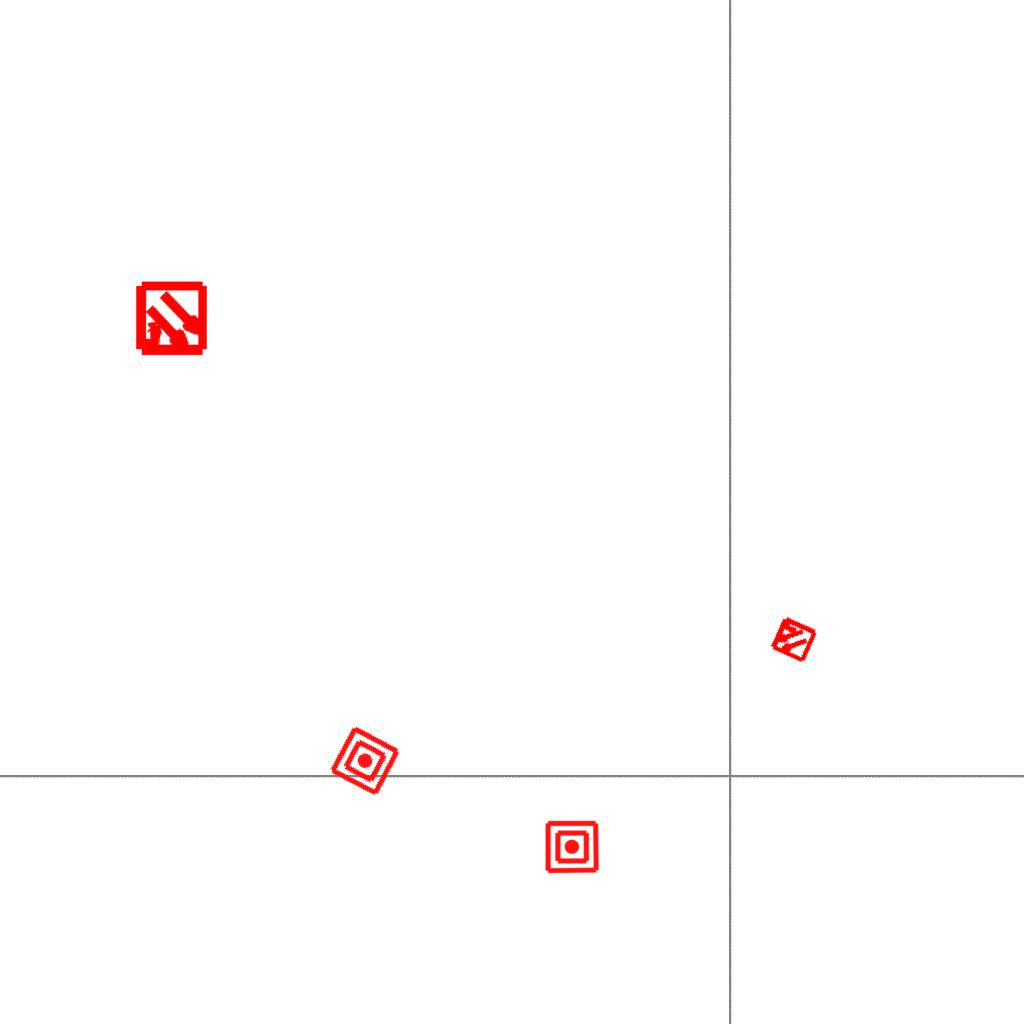NAM-Nichtautomatischer_Melder: (327, 723, 403, 799), (544, 819, 600, 875)
OT_Multisensormelder_(Kombination_RMO_WMD): (115, 264, 228, 377), (756, 602, 830, 676)
